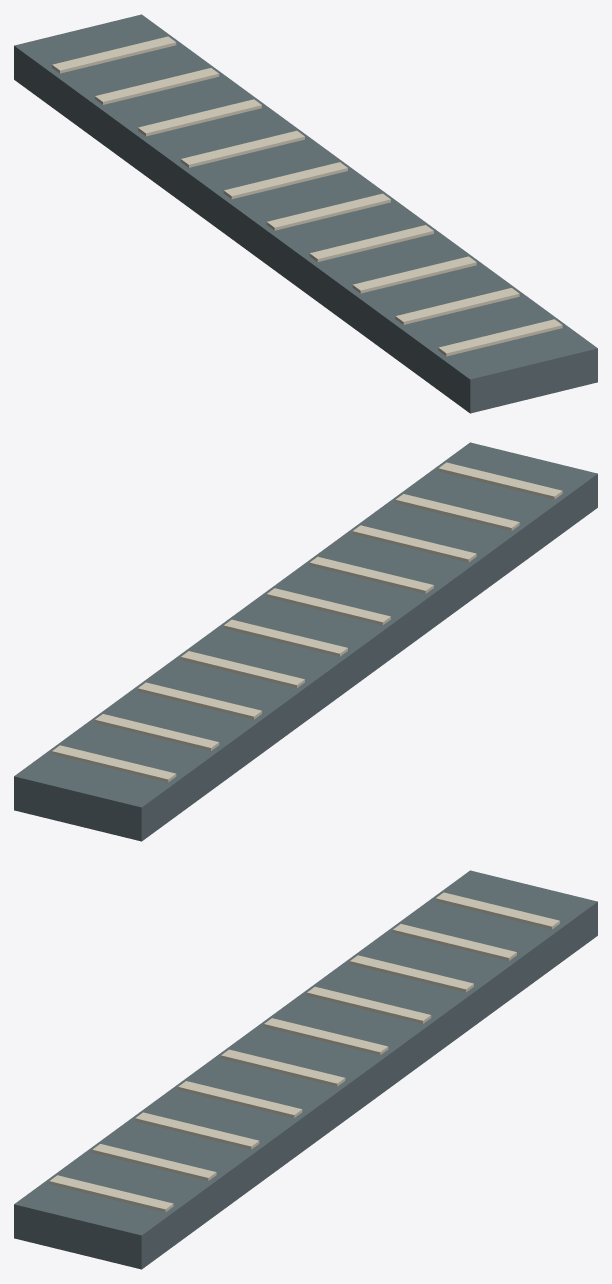
File: drain-channel.glb
3 views of the same model, one above another, from view 1: azimuth 30°, elevation 25°; view 2: azimuth 150°, elevation 25°; view 3: azimuth 330°, elevation 25° (orthographic).
Size of the model in its own units: 0.55 by 0.1525 by 3.4.
